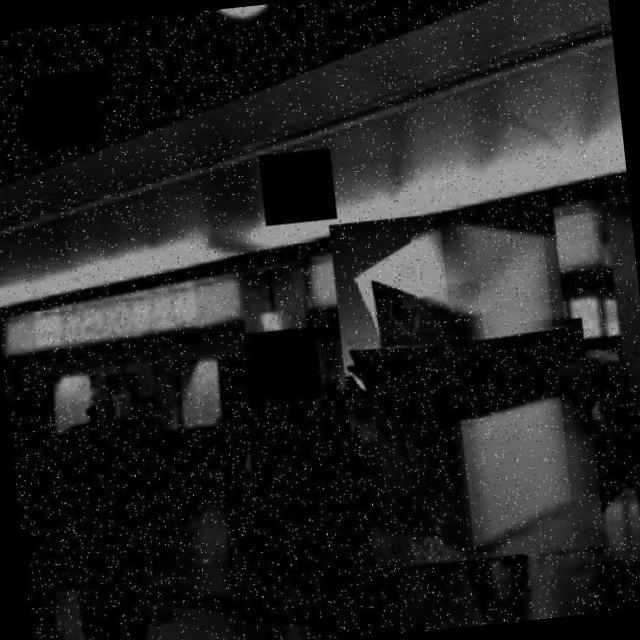box: (348, 314, 610, 574), (324, 198, 578, 431)
